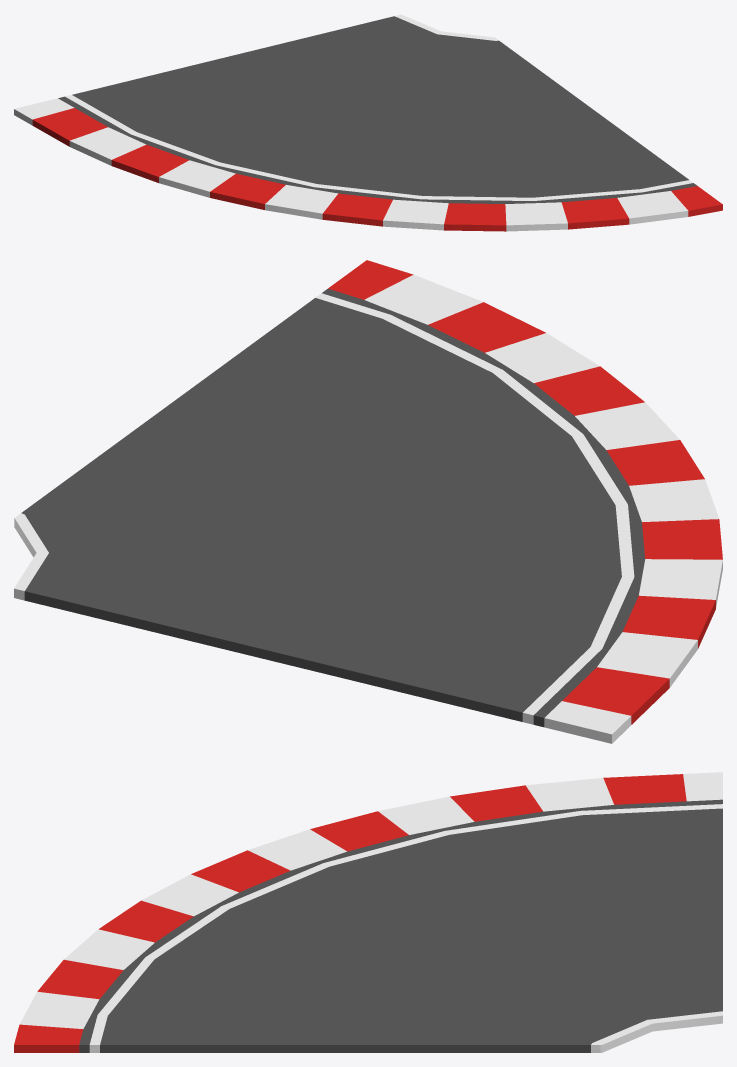
File: Track 90d side.fbx
The picture shows the model from 3 angles, top to bottom: view 1: azimuth 30°, elevation 25°; view 2: azimuth 150°, elevation 25°; view 3: azimuth 270°, elevation 25°; orthographic projection. The views are drawn at different scales.
Parts seen in each view (by area): view 1: Track 90D Side; view 2: Track 90D Side; view 3: Track 90D Side.
Boxes of the visible parts, bbox=[...] form: Track 90D Side: bbox=[14, 14, 722, 231]; Track 90D Side: bbox=[14, 260, 722, 743]; Track 90D Side: bbox=[14, 772, 722, 1052].
Bounding box in the file's own units: 1238 × 16.72 × 1360.
